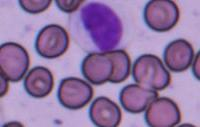M: (69, 0, 126, 54)
